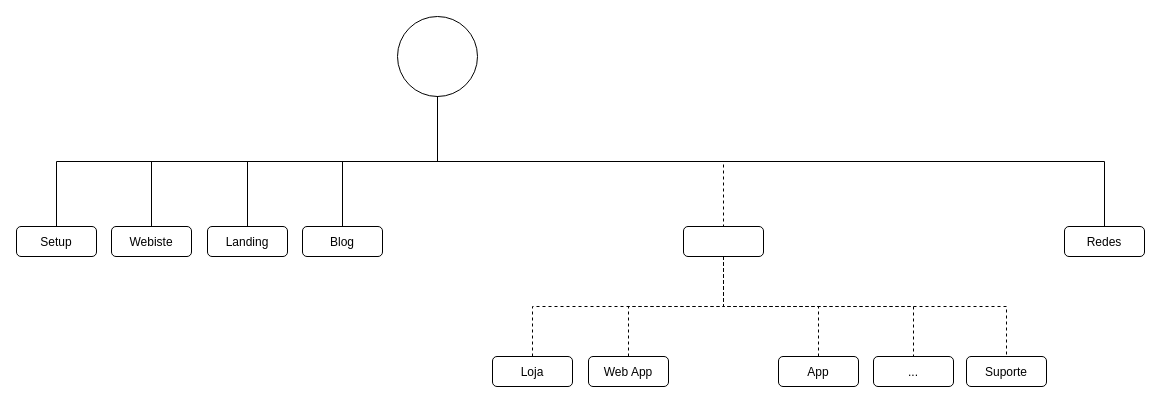
Image size: 1161x403. Some labels were removed from this diagram. The centre of each missing label's shape, as x and y in pixels:
"Entry" belongs at (723,241).
"Start" belongs at (437,56).
